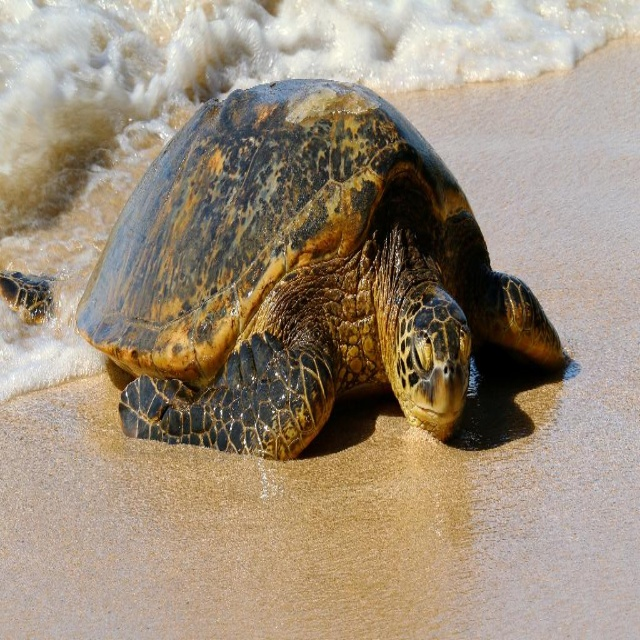Sea turtle: (72, 74, 568, 454), (0, 267, 59, 324)
